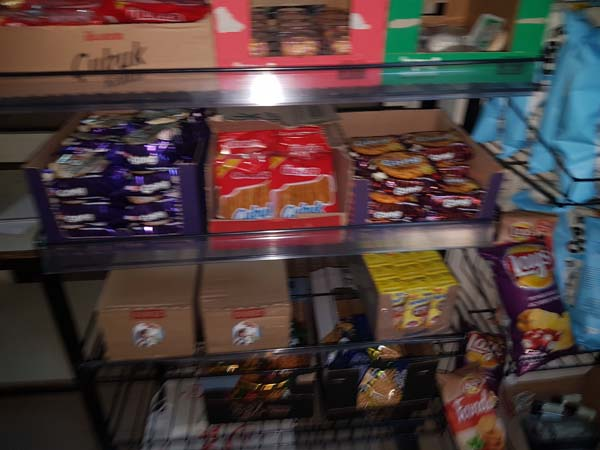eticubuk: (275, 154, 335, 218), (218, 153, 272, 218)
laysfirindan: (438, 370, 507, 450)
layspeynirsoslu: (489, 246, 575, 362)
nesquick200ml: (405, 288, 430, 337)
